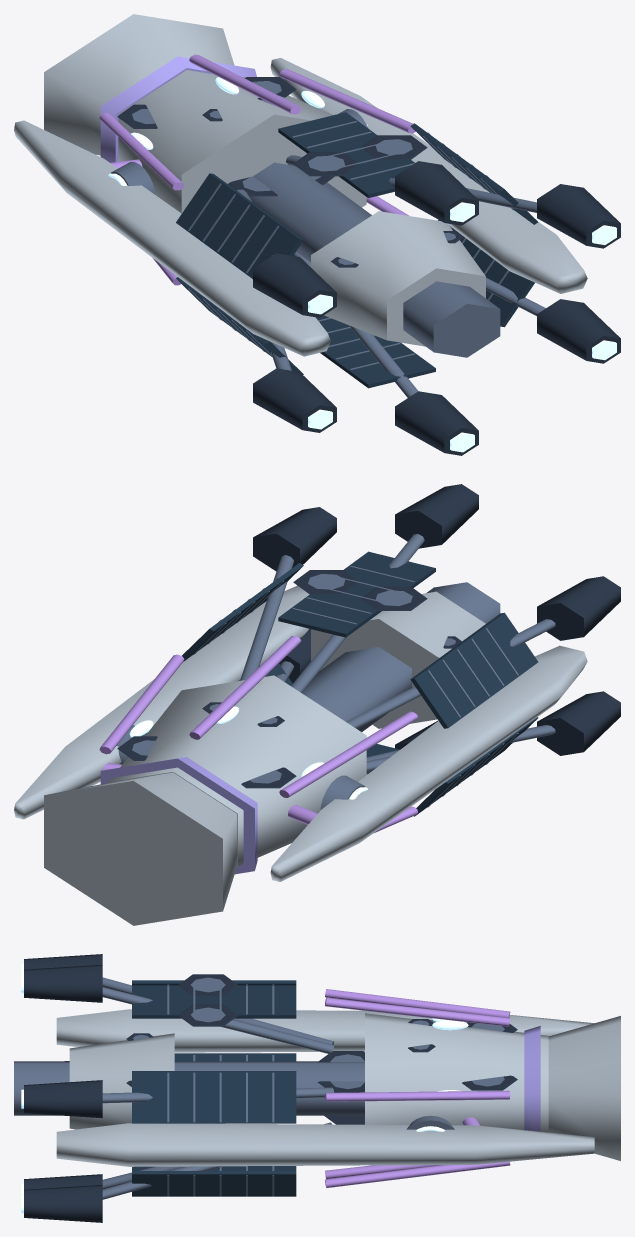
Rendered from cryogenic_hydrocarbon--patrol_corvette.glb.
The picture shows the model from 3 angles, top to bottom: view 1: azimuth 30°, elevation 25°; view 2: azimuth 150°, elevation 25°; view 3: azimuth 270°, elevation 25°; orthographic projection. The views are drawn at different scales.
Visible parts, largest first — view 1: split_guard_lance_75, cold_habitat_lantern_2, protected_drive_root_79, forward_ice_cap_3, thermal_isolation_spine_1, split_guard_lance_77, heat_rejection_fin_64, heat_rejection_fin_9, heat_rejection_fin_42, isolated_hot_drive_51, isolated_hot_drive_18, isolated_hot_drive_29 (+15 smaller); view 2: forward_ice_cap_3, cold_habitat_lantern_2, split_guard_lance_75, split_guard_lance_77, protected_drive_root_79, heat_rejection_fin_64, thermal_isolation_spine_1, heat_rejection_fin_9, isolated_hot_drive_62, isolated_hot_drive_7, isolated_hot_drive_51, isolated_hot_drive_18 (+13 smaller); view 3: split_guard_lance_77, cold_habitat_lantern_2, split_guard_lance_75, forward_ice_cap_3, heat_rejection_fin_20, thermal_isolation_spine_1, protected_drive_root_79, heat_rejection_fin_9, heat_rejection_fin_31, isolated_hot_drive_18, isolated_hot_drive_7, isolated_hot_drive_29 (+19 smaller).
Part boxes in pixels (bbox=[...]): split_guard_lance_75: bbox=[14, 120, 330, 356]; cold_habitat_lantern_2: bbox=[118, 70, 366, 213]; protected_drive_root_79: bbox=[311, 211, 485, 346]; forward_ice_cap_3: bbox=[44, 14, 234, 155]; thermal_isolation_spine_1: bbox=[249, 162, 500, 357]; split_guard_lance_77: bbox=[270, 58, 587, 293]; heat_rejection_fin_64: bbox=[176, 173, 303, 278]; heat_rejection_fin_9: bbox=[278, 112, 414, 197]; heat_rejection_fin_42: bbox=[316, 315, 435, 388]; isolated_hot_drive_51: bbox=[253, 368, 336, 432]; isolated_hot_drive_18: bbox=[537, 184, 620, 248]; isolated_hot_drive_29: bbox=[537, 299, 620, 363]; forward_ice_cap_3: bbox=[44, 772, 237, 925]; cold_habitat_lantern_2: bbox=[108, 675, 366, 866]; split_guard_lance_75: bbox=[270, 645, 587, 881]; split_guard_lance_77: bbox=[14, 585, 309, 819]; protected_drive_root_79: bbox=[311, 591, 485, 728]; heat_rejection_fin_64: bbox=[410, 612, 538, 728]; thermal_isolation_spine_1: bbox=[302, 582, 500, 731]; heat_rejection_fin_9: bbox=[278, 551, 435, 637]; isolated_hot_drive_62: bbox=[537, 576, 620, 640]; isolated_hot_drive_7: bbox=[395, 484, 478, 548]; isolated_hot_drive_51: bbox=[537, 691, 620, 755]; isolated_hot_drive_18: bbox=[253, 507, 336, 571]; split_guard_lance_77: bbox=[56, 1123, 594, 1166]; cold_habitat_lantern_2: bbox=[365, 1013, 548, 1132]; split_guard_lance_75: bbox=[56, 1009, 593, 1052]; forward_ice_cap_3: bbox=[548, 1016, 620, 1160]; heat_rejection_fin_20: bbox=[132, 1071, 296, 1123]; thermal_isolation_spine_1: bbox=[14, 1061, 364, 1115]; protected_drive_root_79: bbox=[69, 1033, 174, 1129]; heat_rejection_fin_9: bbox=[132, 985, 296, 1018]; heat_rejection_fin_31: bbox=[132, 1171, 296, 1196]; isolated_hot_drive_18: bbox=[24, 1080, 102, 1118]; isolated_hot_drive_7: bbox=[24, 964, 102, 1002]; isolated_hot_drive_29: bbox=[24, 1185, 102, 1222].
Bounding box in the file's own units: 142 × 110 × 248.
